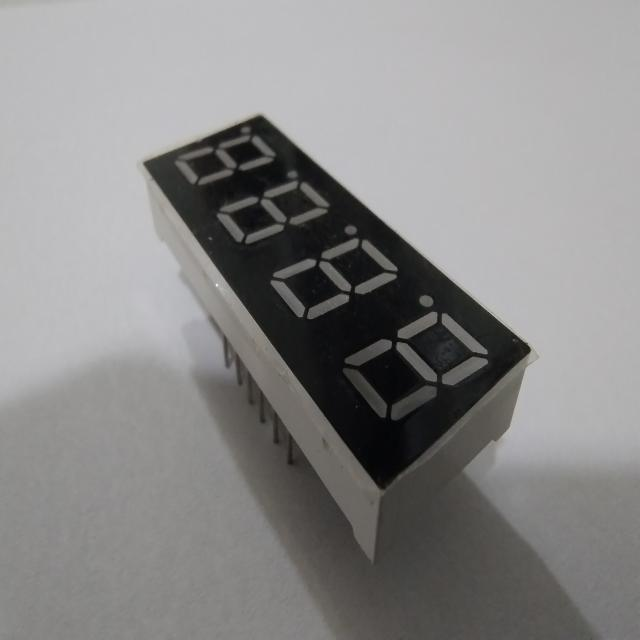7_segments_4_digits: (136, 110, 540, 577)
